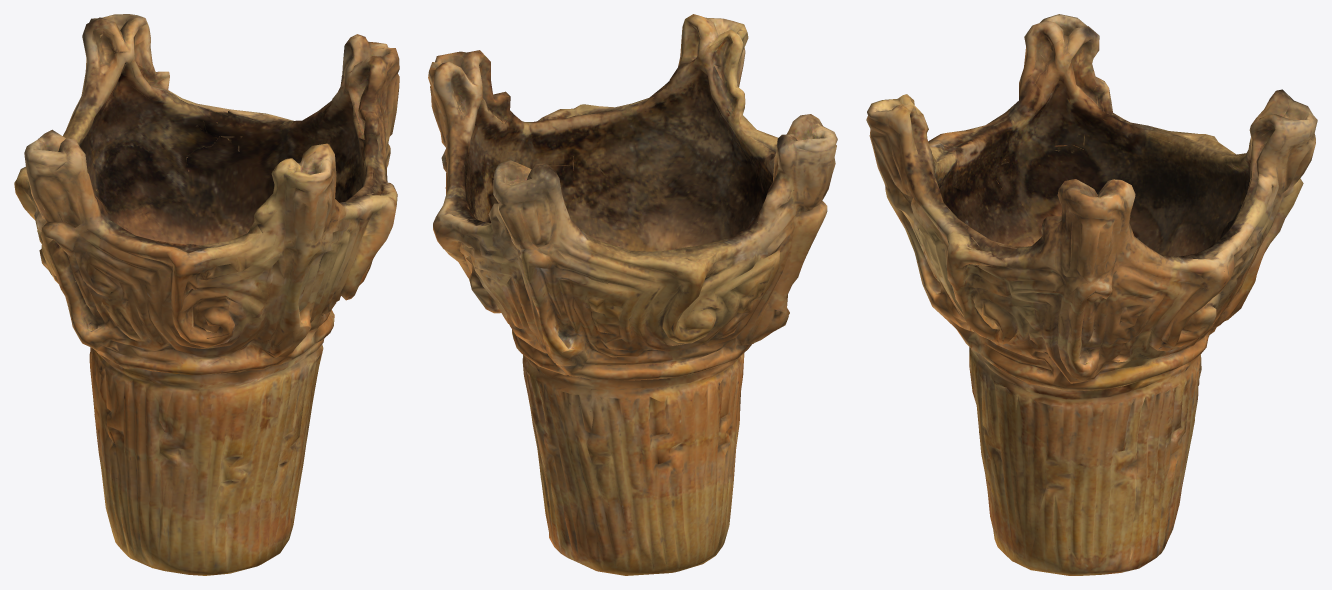
3 renders of one model, left to right at view 1: azimuth 30°, elevation 25°; view 2: azimuth 150°, elevation 25°; view 3: azimuth 270°, elevation 25°, orthographic.
Visible parts, largest first — view 1: IN0008_low; view 2: IN0008_low; view 3: IN0008_low.
Part boxes in pixels (x1,y1,x2,y2): IN0008_low: (14, 14, 399, 575); IN0008_low: (428, 14, 837, 575); IN0008_low: (866, 14, 1317, 575).
Size of the model in its own units: 221 by 249 by 224.
1 material, 1 textured.
